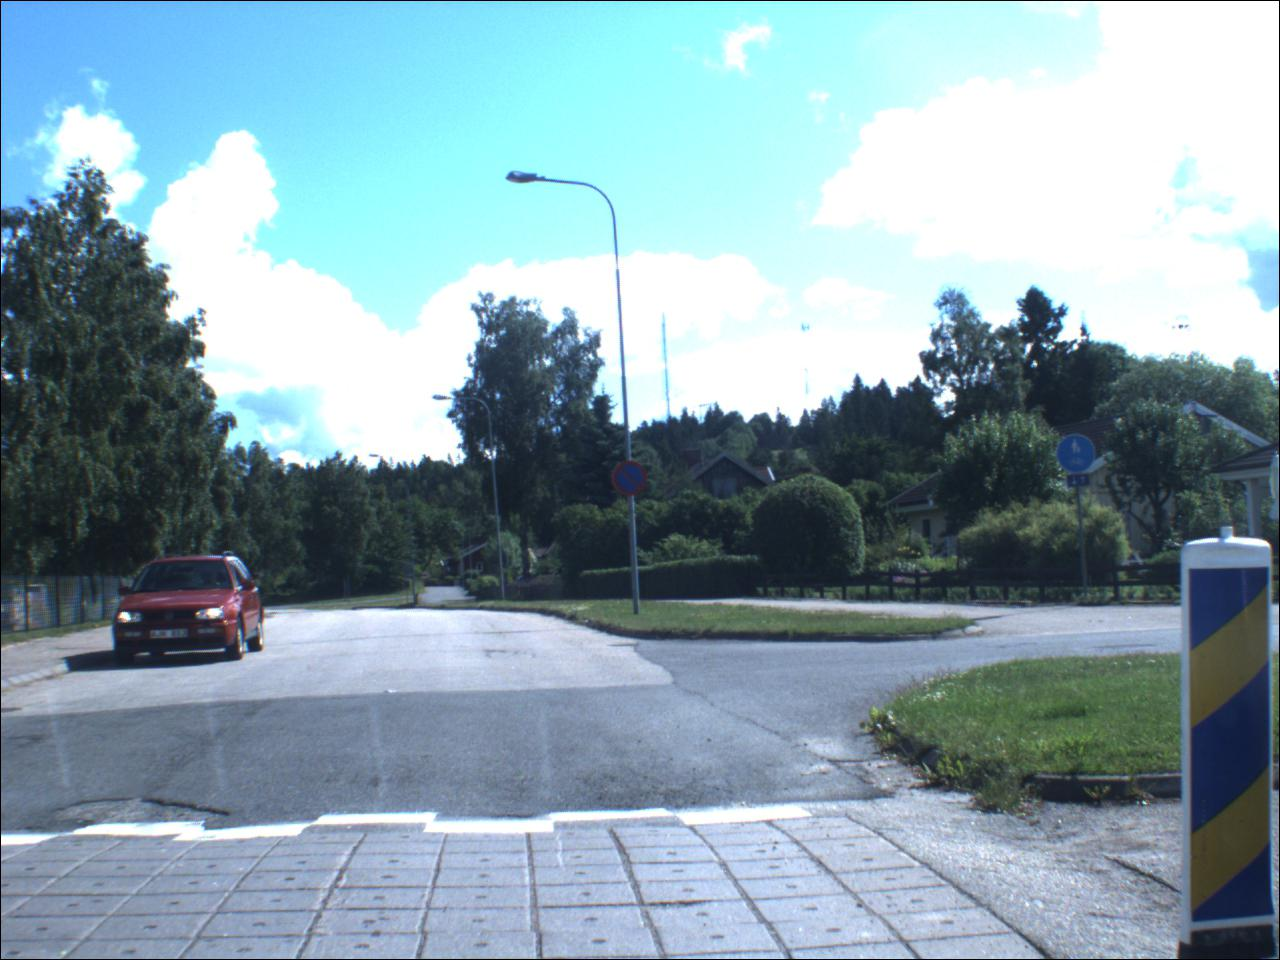NO_PARKING: (612, 462, 652, 499)
